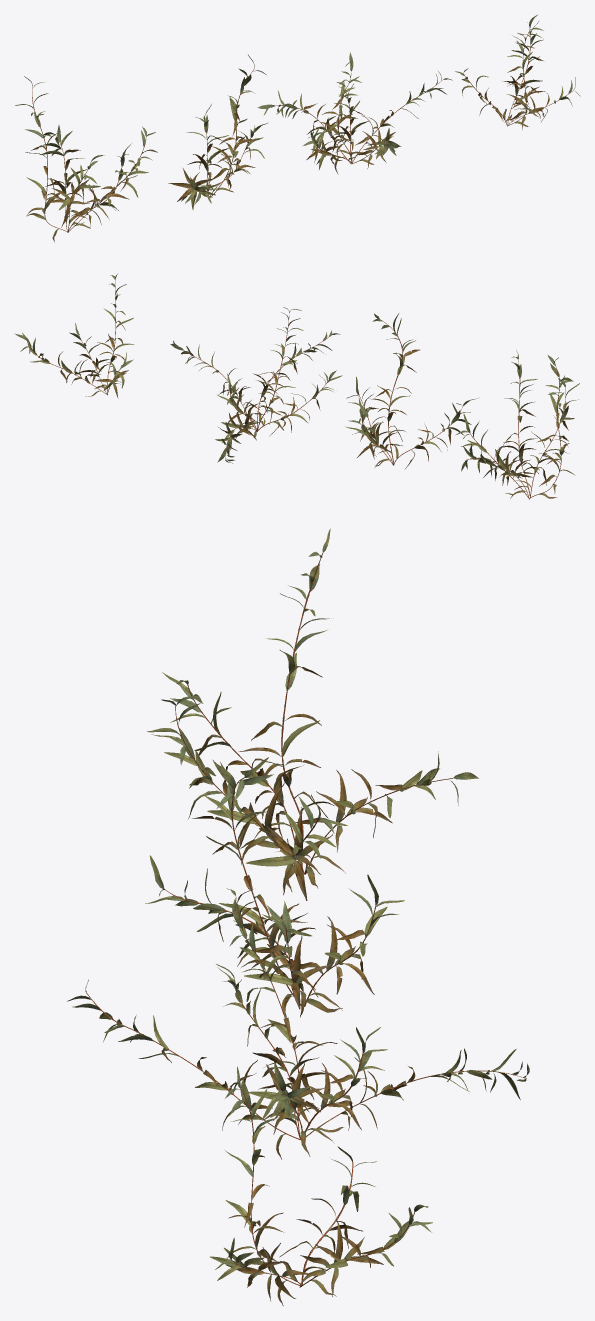
File: shrub_02.gltf
3 views of the same model, one above another, from view 1: azimuth 30°, elevation 25°; view 2: azimuth 150°, elevation 25°; view 3: azimuth 270°, elevation 25° (orthographic). The views are drawn at different scales.
Parts seen in each view (by area): view 1: shrub_02_c, shrub_02_a, shrub_02_b, shrub_02_d; view 2: shrub_02_a, shrub_02_c, shrub_02_b, shrub_02_d; view 3: shrub_02_a, shrub_02_c, shrub_02_b, shrub_02_d.
Boxes of the visible parts, box(x1,y1,x2,y2) form: shrub_02_c: box(257, 52, 452, 174); shrub_02_a: box(15, 76, 157, 242); shrub_02_b: box(168, 54, 268, 209); shrub_02_d: box(455, 14, 580, 129); shrub_02_a: box(455, 350, 579, 499); shrub_02_c: box(170, 307, 342, 463); shrub_02_b: box(345, 313, 479, 468); shrub_02_d: box(14, 274, 134, 398); shrub_02_a: box(147, 528, 478, 900); shrub_02_c: box(67, 888, 529, 1159); shrub_02_b: box(145, 757, 404, 1018); shrub_02_d: box(210, 1066, 432, 1305).
Size of the model in its own units: 6.05 by 1.7 by 2.29.
Materials: 1 (1 with a texture image).
